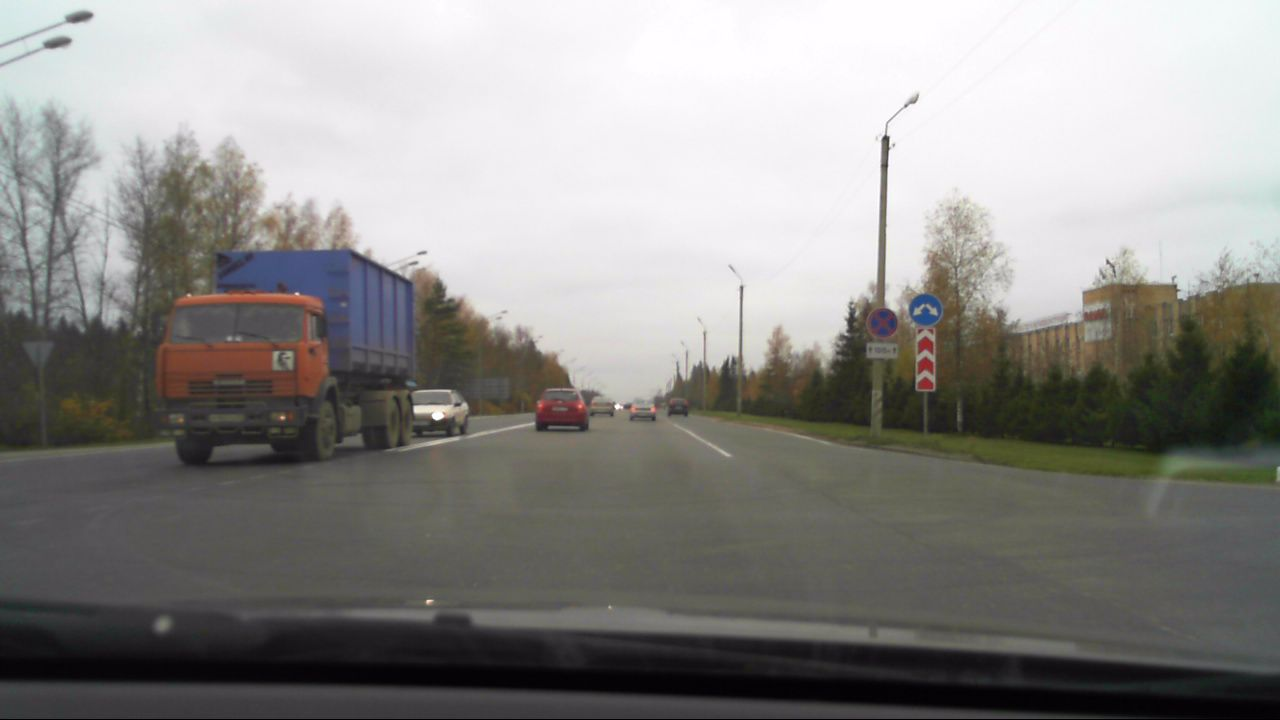No Parking: (864, 306, 901, 341)
